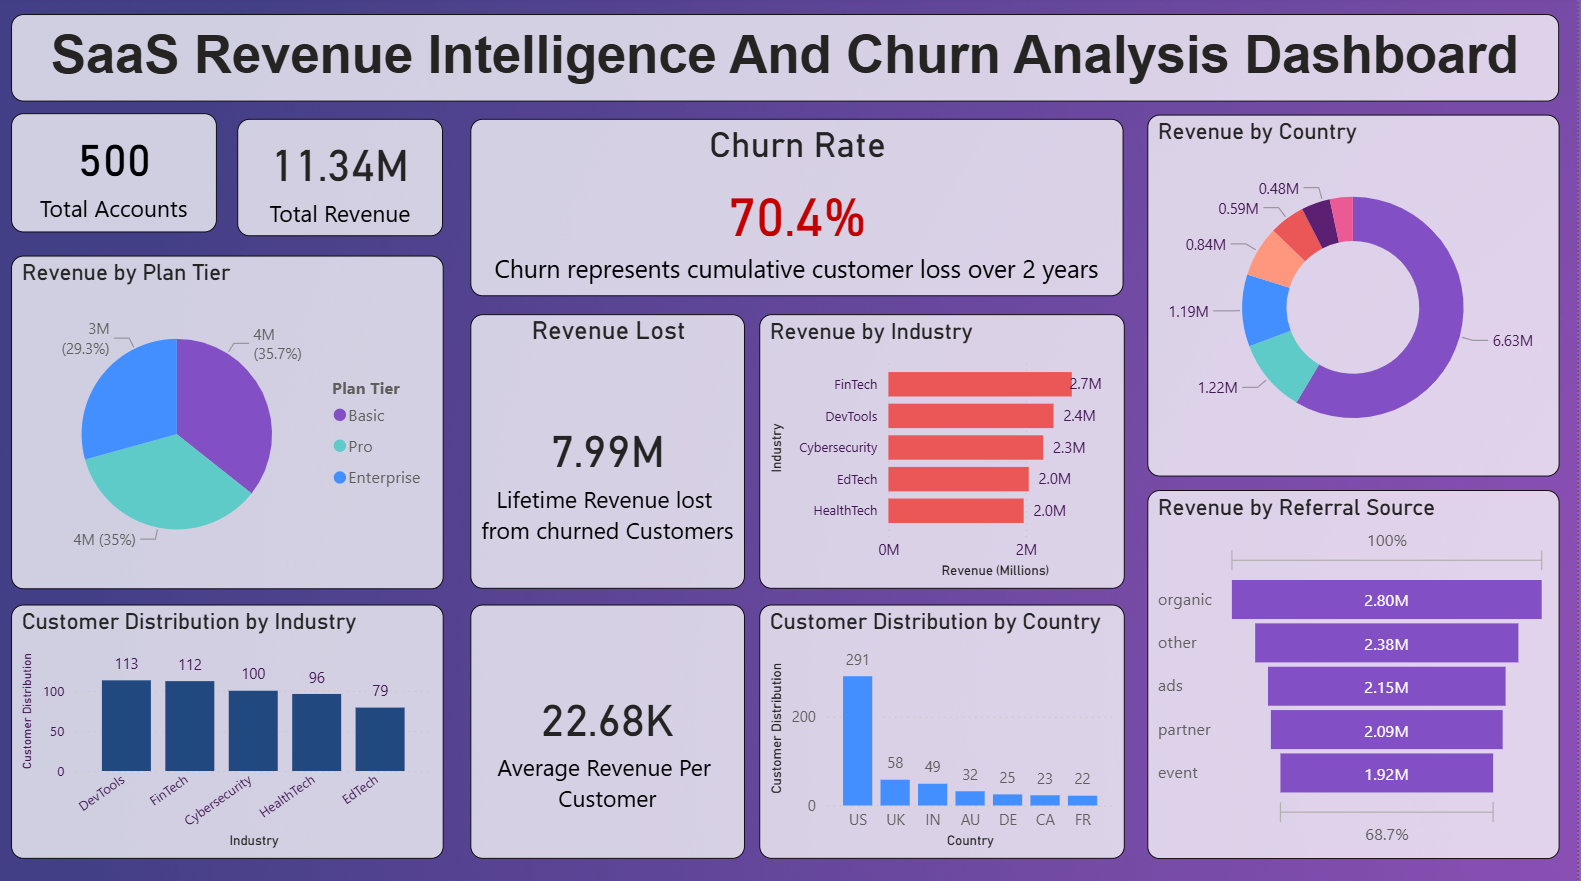

The page's visual inventory and layout, read from the dashboard file:
{"tool":"powerbi","page":{"name":"Page 1","canvas":[1280,720],"ordinal":0},"visuals":[{"type":"clusteredBarChart","fields":{"Category":["account_kpi_summary.industry"],"Y":["Sum(account_kpi.total_mrr)"]},"box":[616,258.3,296.4,223],"z":0},{"type":"pieChart","fields":{"Category":["account_kpi_summary.plan_tier"],"Y":["Sum(account_kpi.total_mrr)"]},"box":[9.5,210.8,350.8,270.6],"z":1000},{"type":"funnel","fields":{"Category":["account_kpi_summary.referral_source"],"Y":["Sum(account_kpi.total_mrr)"]},"box":[931.4,401.1,334.5,299.1],"z":2000},{"type":"donutChart","fields":{"Category":["account_kpi_summary.country"],"Y":["Sum(account_kpi.total_mrr)"]},"box":[931.4,96.5,334.5,293.7],"z":3000},{"type":"card","title":"No of Accounts","fields":{"Values":["account_kpi.Total Accounts"]},"box":[9.5,95.2,167.2,96.5],"z":4000},{"type":"clusteredColumnChart","fields":{"Y":["CountNonNull(account_kpi_summary.Column)"],"Category":["account_kpi.industry"]},"box":[9.5,493.6,350.8,206.7],"z":5000},{"type":"textbox","box":[9.5,15,1256.4,70.7],"z":8000},{"type":"card","fields":{"Values":["account_kpi.Total Revenue"]},"box":[193.1,99.3,167.2,95.2],"z":9000},{"type":"card","title":"Churn Rate","fields":{"Values":["account_kpi.Churn Rate"]},"box":[382.1,99.3,530.3,144.1],"z":10000},{"type":"card","title":"Revenue Lost","fields":{"Values":["account_kpi.Revenue Lost"]},"box":[382.1,258.3,223,223],"z":11000},{"type":"card","fields":{"Values":["account_kpi.ARPU"]},"box":[382.1,493.6,223,206.7],"z":12000},{"type":"clusteredColumnChart","fields":{"Y":["CountNonNull(account_kpi_summary.Column)"],"Category":["account_kpi_summary.country"]},"box":[616,493.6,296.4,206.7],"z":13000}]}

Visuals, with their boxes in screenshot pixels (x1, y1, x2, y2), scaled from the page's 1280x720 canvas onto the 1581x881 screenshot:
clusteredBarChart - account_kpi_summary.industry x Sum(account_kpi.total_mrr): Rect(761, 316, 1127, 589)
pieChart - account_kpi_summary.plan_tier x Sum(account_kpi.total_mrr): Rect(12, 258, 445, 589)
funnel - account_kpi_summary.referral_source x Sum(account_kpi.total_mrr): Rect(1150, 491, 1564, 857)
donutChart - account_kpi_summary.country x Sum(account_kpi.total_mrr): Rect(1150, 118, 1564, 477)
"No of Accounts" card: Rect(12, 116, 218, 235)
clusteredColumnChart - CountNonNull(account_kpi_summary.Column) x account_kpi.industry: Rect(12, 604, 445, 857)
textbox: Rect(12, 18, 1564, 105)
card - account_kpi.Total Revenue: Rect(239, 122, 445, 238)
"Churn Rate" card: Rect(472, 122, 1127, 298)
"Revenue Lost" card: Rect(472, 316, 747, 589)
card - account_kpi.ARPU: Rect(472, 604, 747, 857)
clusteredColumnChart - CountNonNull(account_kpi_summary.Column) x account_kpi_summary.country: Rect(761, 604, 1127, 857)
